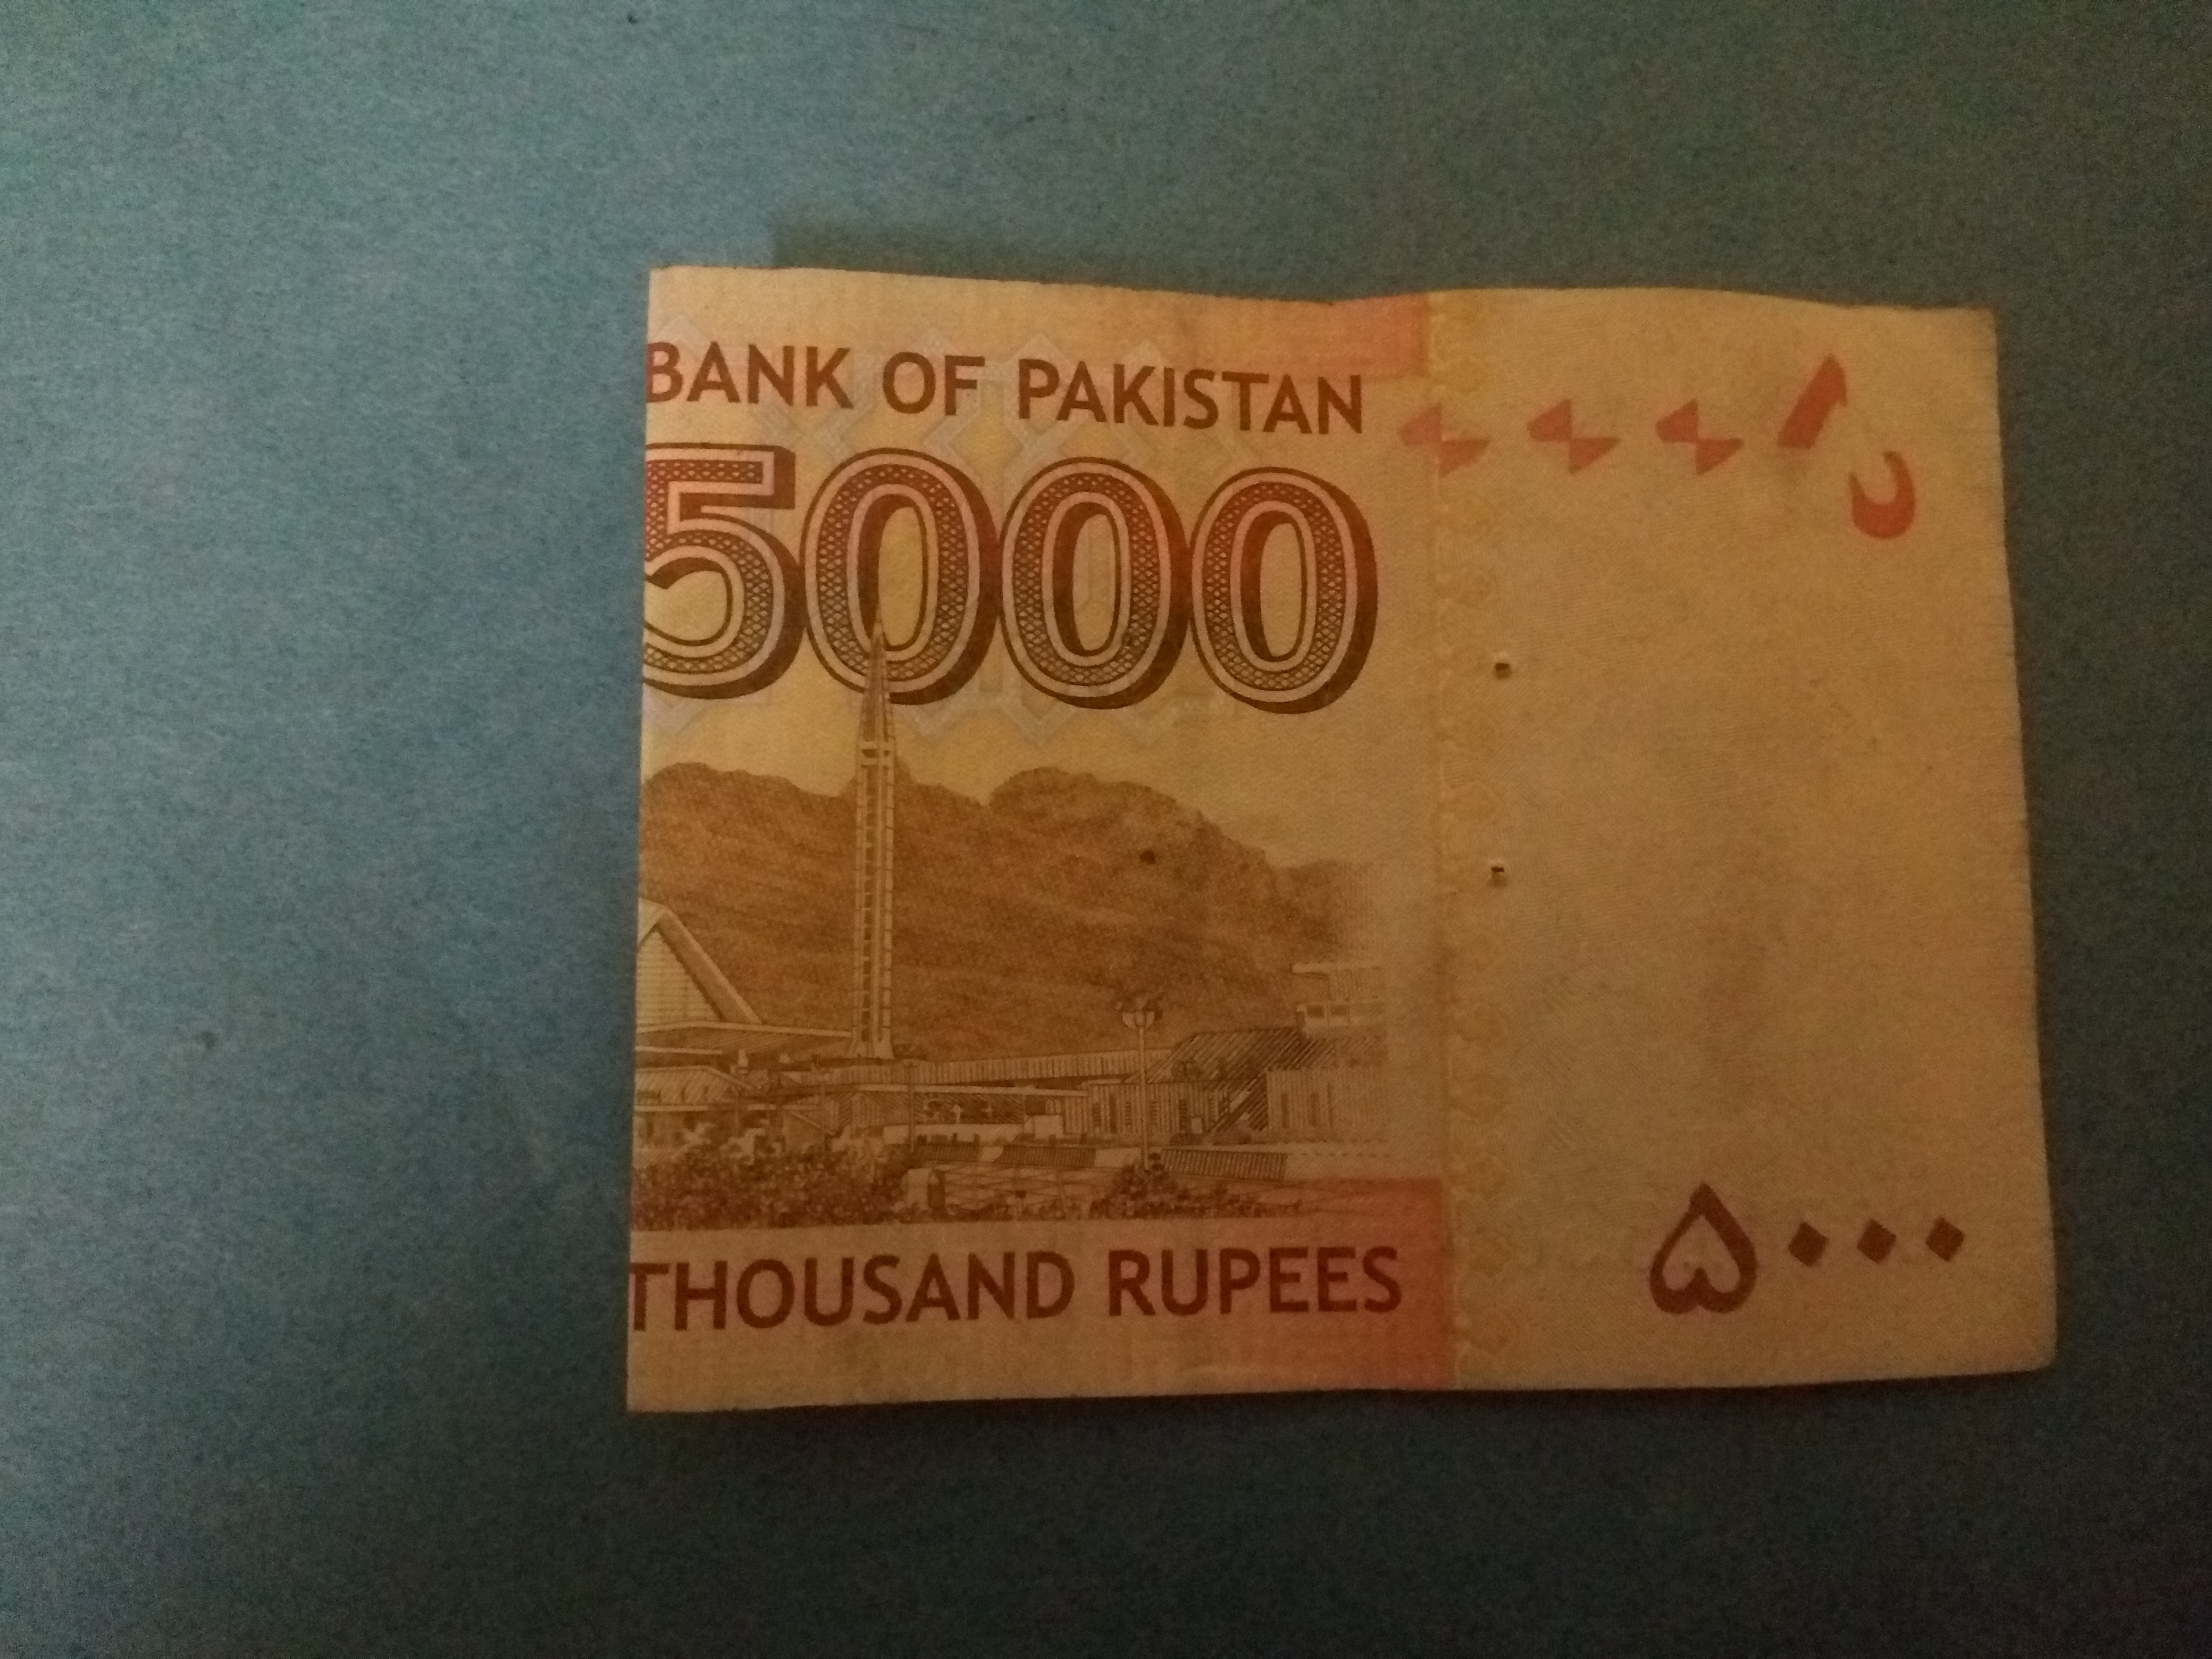5000 rupee: (618, 216, 2076, 1448)
